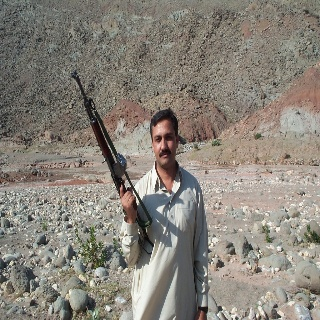rifle: (69, 70, 154, 232)
